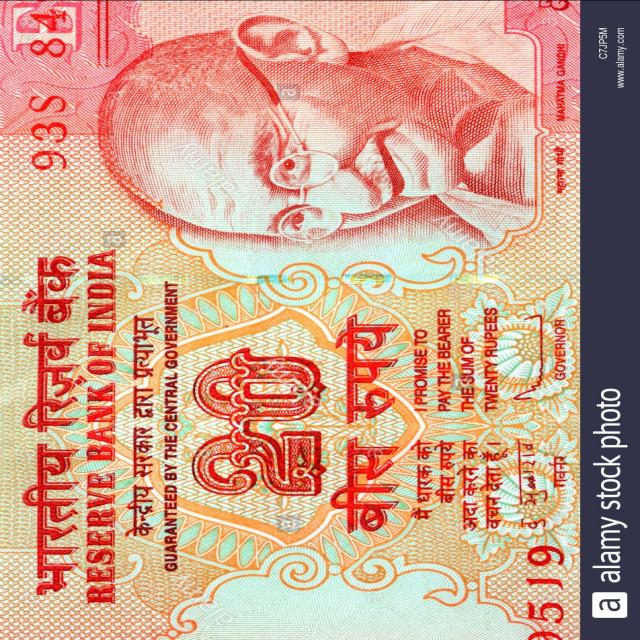20IndianRupees: (4, 6, 570, 636)
